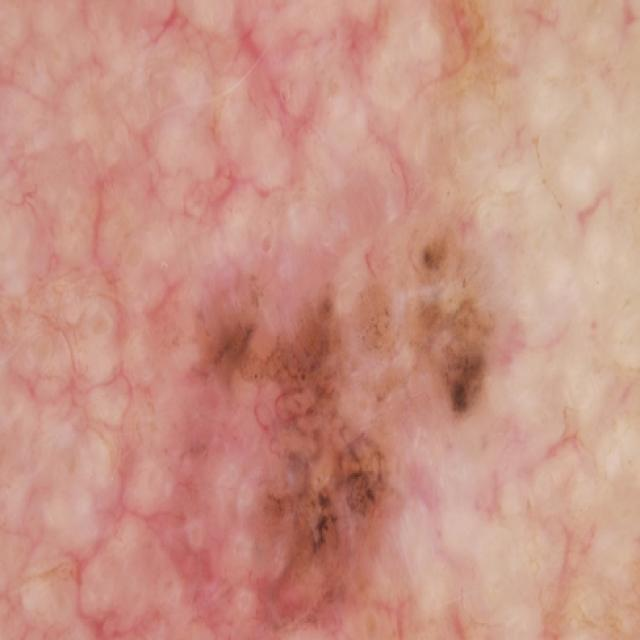Carcinoma: (148, 206, 544, 638), (425, 3, 532, 87)
